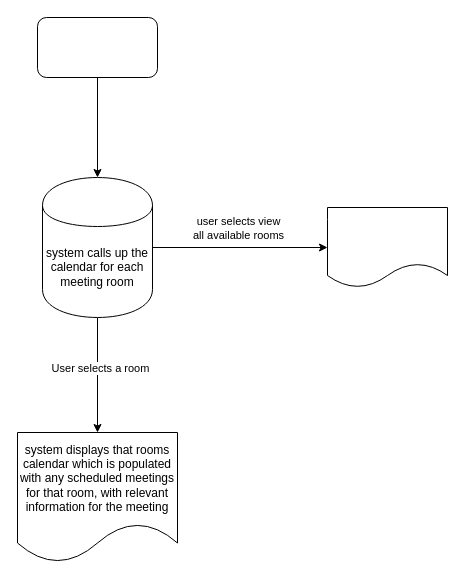
Image size: 465x580. Some labels were removed from this diagram. Each missing label, with the centre of its shape:
"List all meeting rooms within a given building" goes at point (97, 47).
"system displays a list of rooms with no meetings scheduled for a given time slot" goes at point (387, 247).
